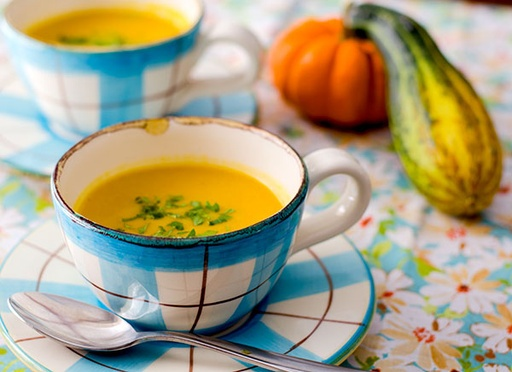background: (190, 0, 402, 127), (57, 49, 226, 138), (18, 3, 148, 27)
